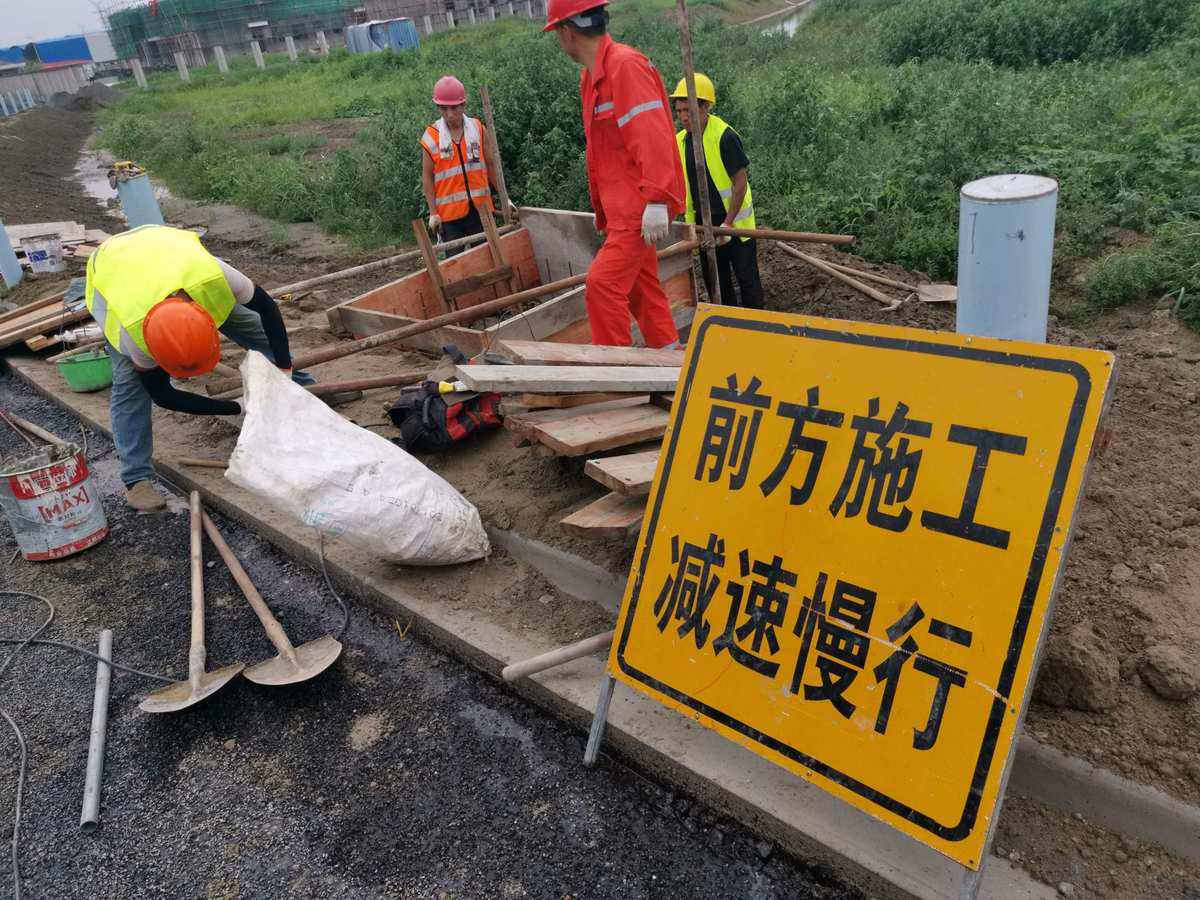ordinary_clothes: (674, 117, 757, 244)
person: (81, 222, 361, 515), (539, 1, 691, 353), (670, 70, 766, 309), (418, 73, 517, 257)
reflective_vest: (84, 224, 236, 369), (578, 35, 689, 232), (418, 117, 496, 221)
safety_helmet: (141, 295, 224, 381), (539, 1, 611, 63), (670, 72, 716, 128), (431, 74, 467, 129)
